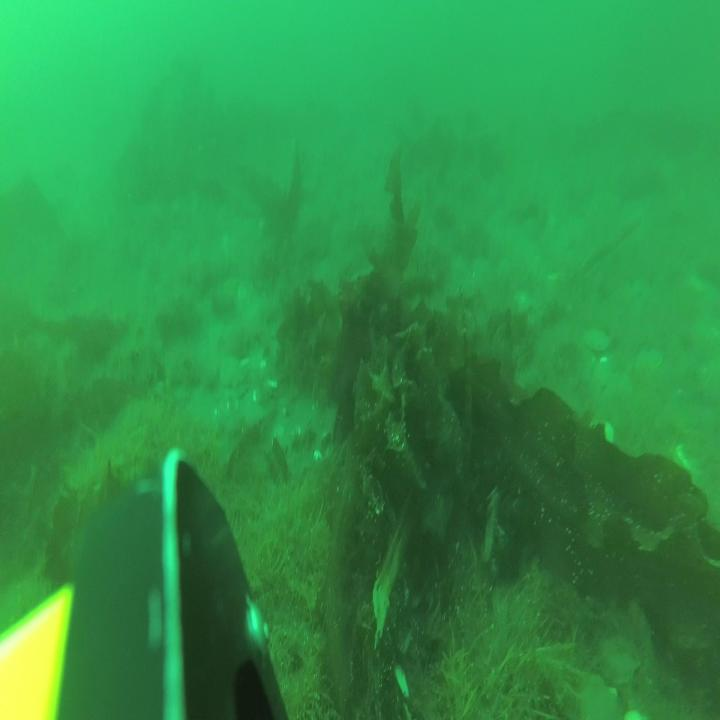scallop: (602, 626, 642, 684), (575, 666, 617, 720), (634, 342, 666, 372), (218, 354, 244, 390), (583, 325, 611, 356)
